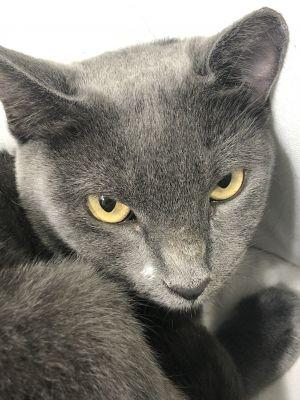rblue: (1, 1, 300, 329)
